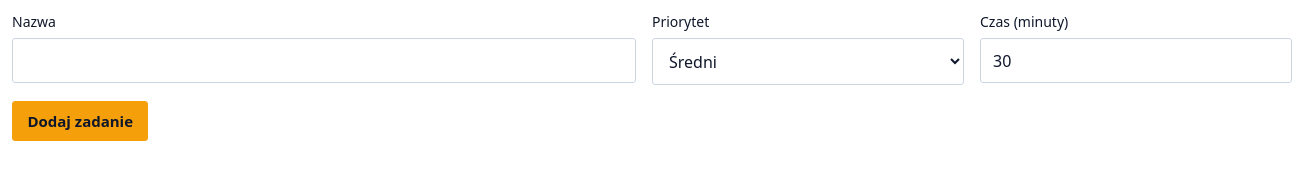
Test: TaskForm › rejects an empty title and moves focus to it
The width and height of the screenshot is (1304, 181).
Step 1. Click the button "Dodaj zadanie" → (80, 121), box [12,101,148,141]
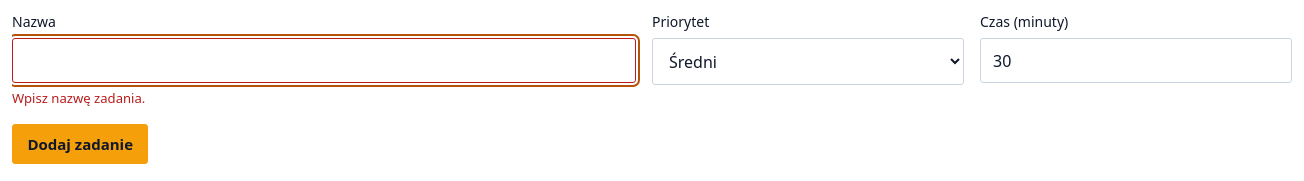
expect the text "Wpisz nazwę zadania." is shown: met, box [12,89,145,107]
